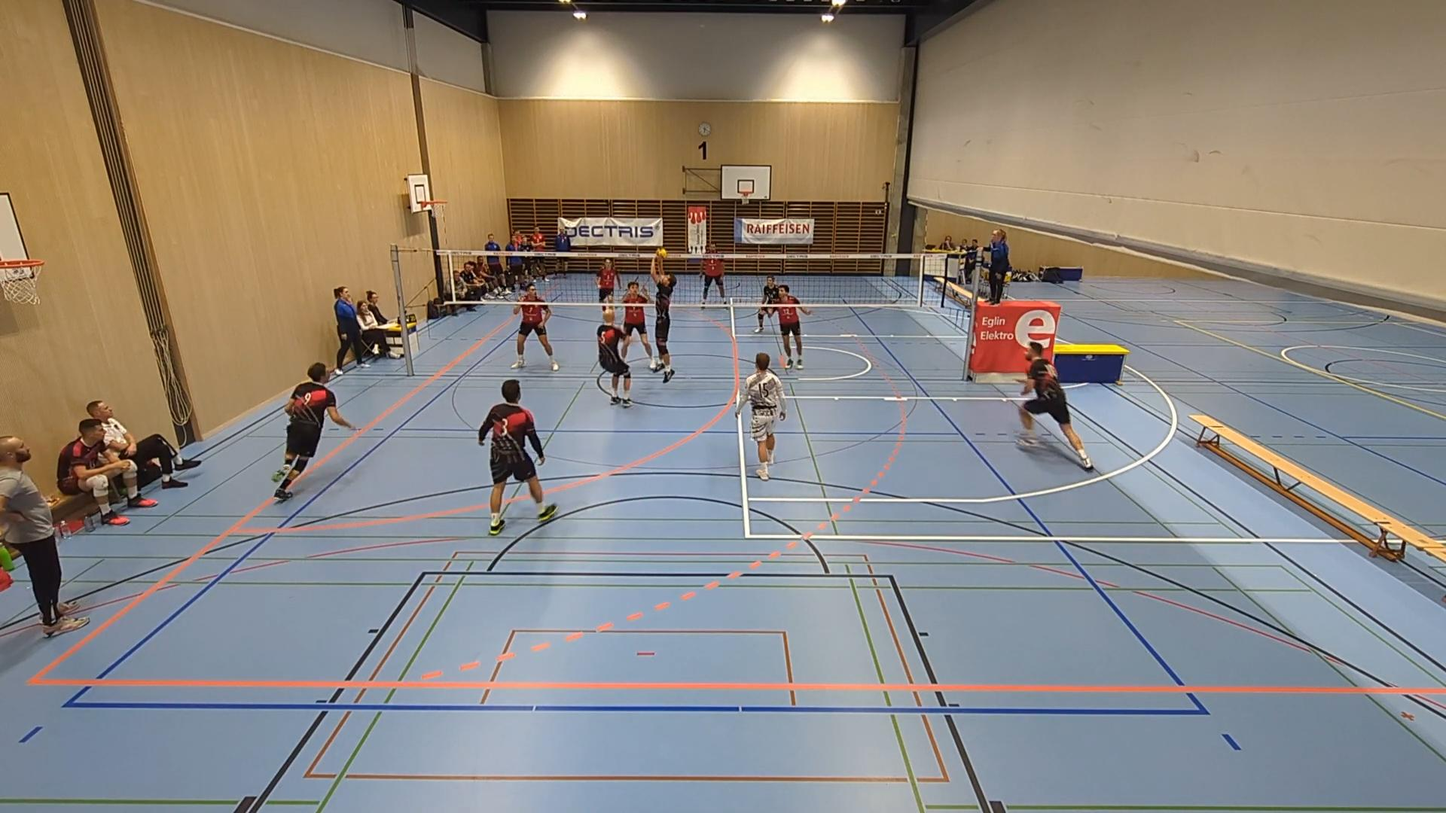Player: (478, 379, 557, 535), (273, 362, 357, 502), (1018, 342, 1093, 470), (735, 352, 786, 480), (511, 285, 558, 370), (597, 308, 630, 406), (621, 282, 656, 370), (775, 285, 811, 368), (754, 276, 779, 333), (702, 256, 725, 305), (596, 258, 616, 303)
Set: (642, 257, 682, 375)
ball: (654, 245, 669, 257)
